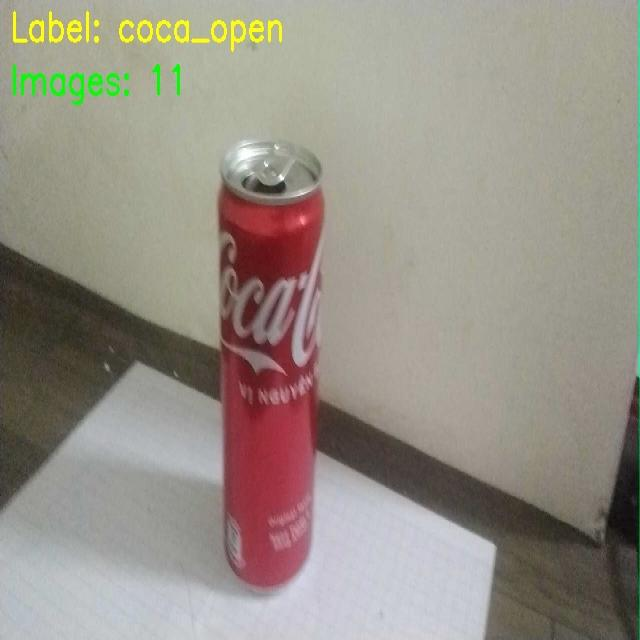Coca_open: (197, 130, 350, 600)
